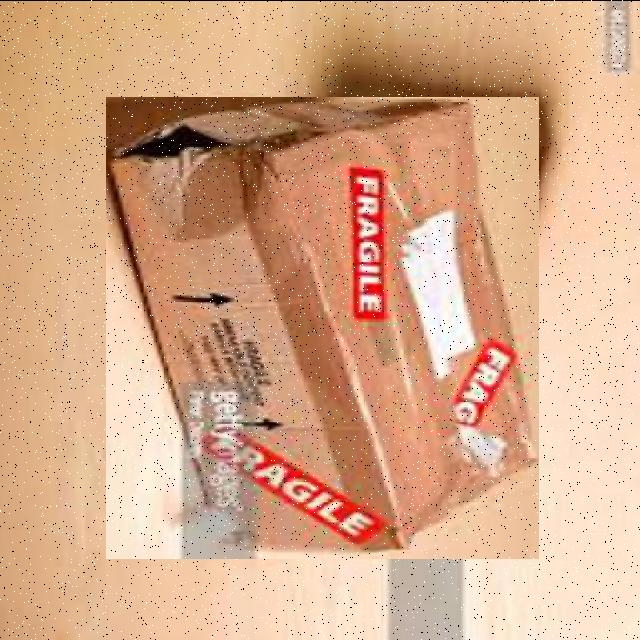defect: (106, 96, 539, 558)
